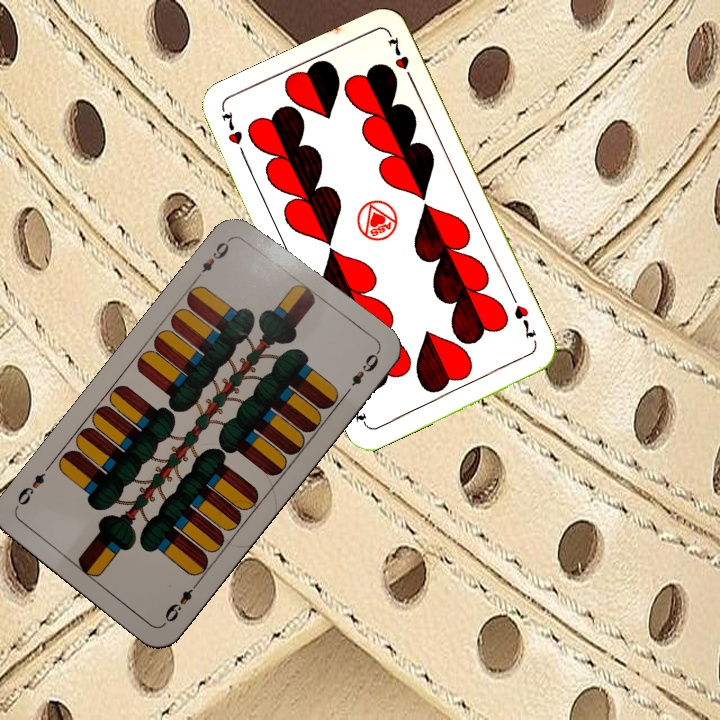E9: (192, 233, 235, 282), (160, 577, 202, 625)
H7: (217, 107, 249, 163), (510, 300, 539, 341)
